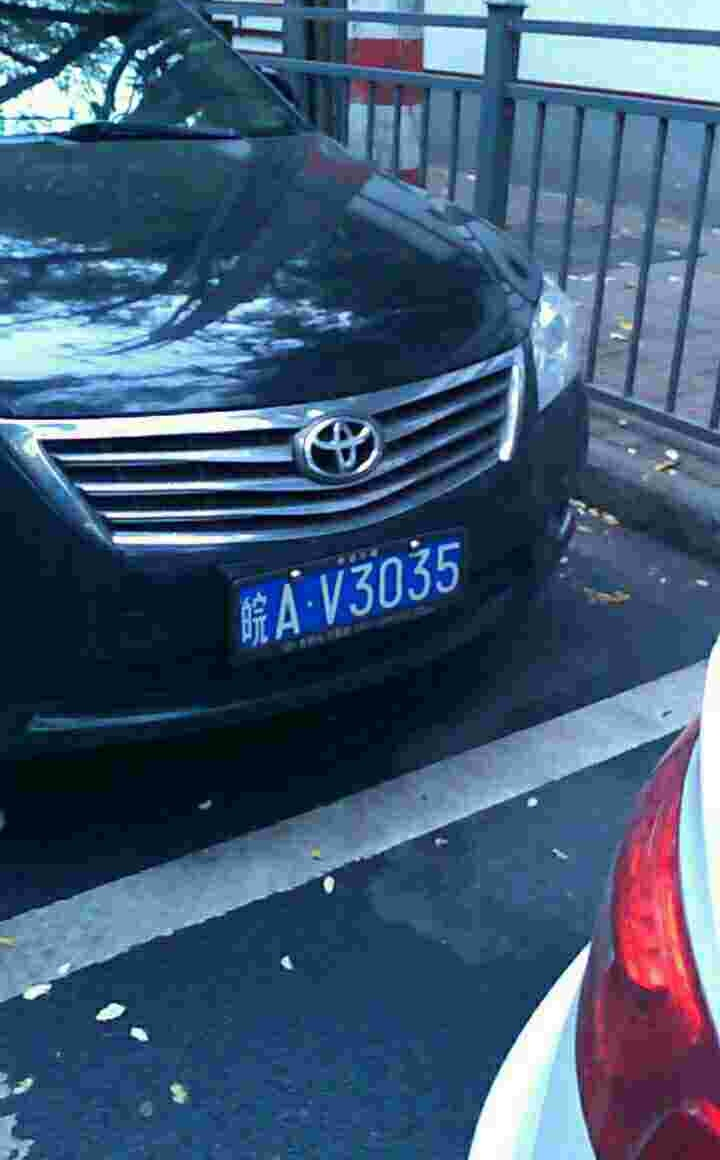license_plate: (241, 530, 469, 646)
